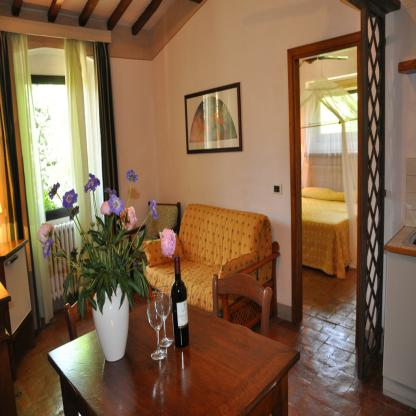vase: (92, 278, 130, 363)
